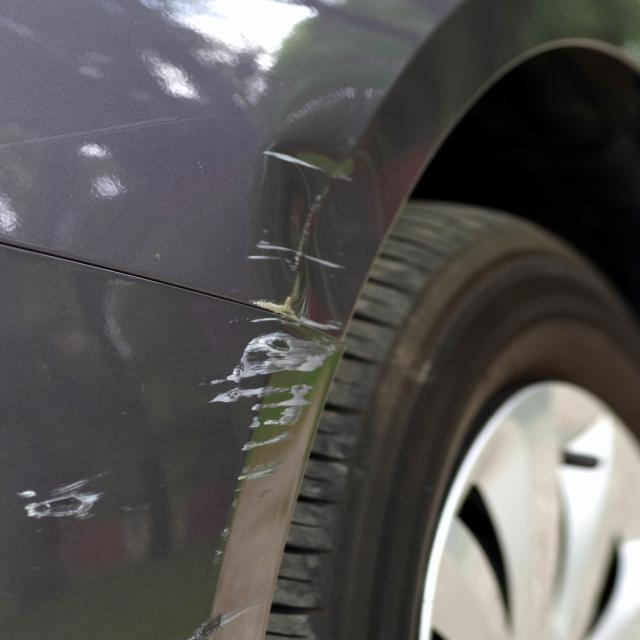dent: (261, 139, 391, 334)
scratch: (203, 318, 341, 557), (10, 479, 110, 522)
